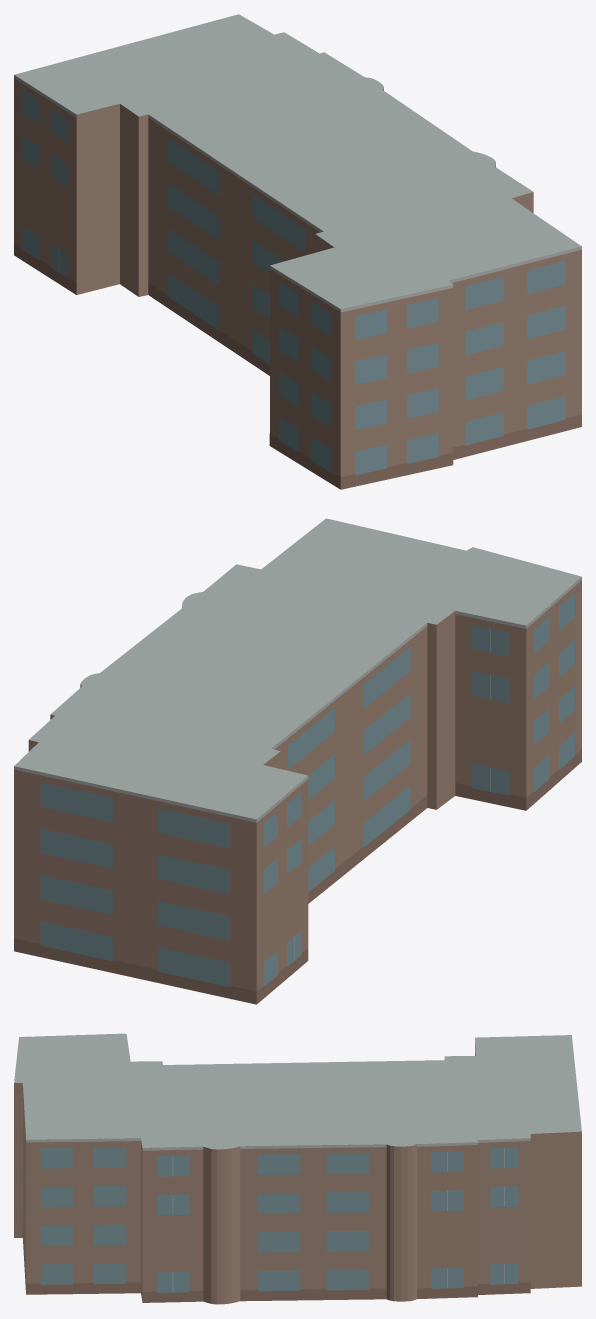
The model's file is survey-upis-33030584.glb.
The picture shows the model from 3 angles, top to bottom: view 1: azimuth 30°, elevation 25°; view 2: azimuth 150°, elevation 25°; view 3: azimuth 270°, elevation 25°; orthographic projection. The views are drawn at different scales.
Visible parts, largest first — view 1: survey-upis-33030584.tmp; view 2: survey-upis-33030584.tmp; view 3: survey-upis-33030584.tmp.
Boxes of the visible parts, bbox=[...] form: survey-upis-33030584.tmp: bbox=[14, 14, 581, 489]; survey-upis-33030584.tmp: bbox=[14, 518, 581, 1004]; survey-upis-33030584.tmp: bbox=[14, 1033, 581, 1304].
Size of the model in its own units: 21.84 by 13.6 by 45.18.
